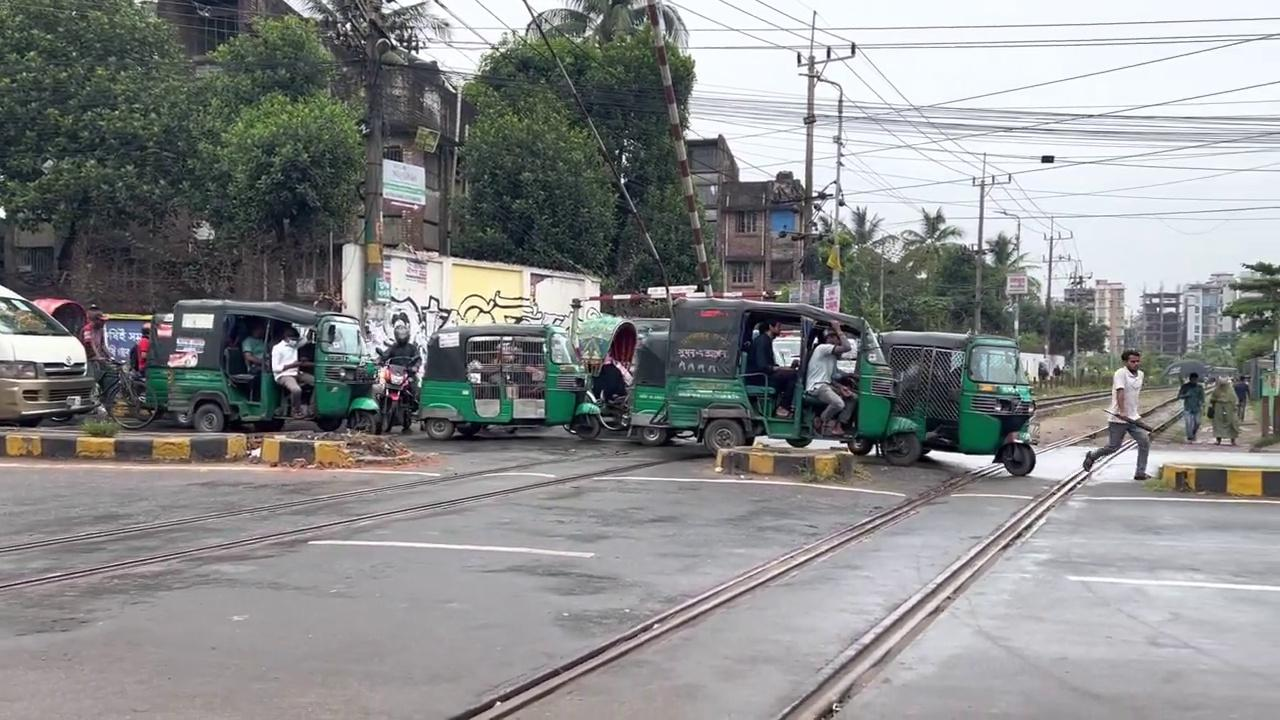Fence: (1082, 348, 1152, 479), (803, 323, 854, 435), (746, 319, 798, 418), (374, 320, 422, 414), (270, 325, 312, 419), (1208, 375, 1240, 445), (1177, 372, 1205, 442), (127, 323, 151, 400)
Garbage: (643, 2, 714, 295)
Motorcycle: (0, 447, 696, 590)
